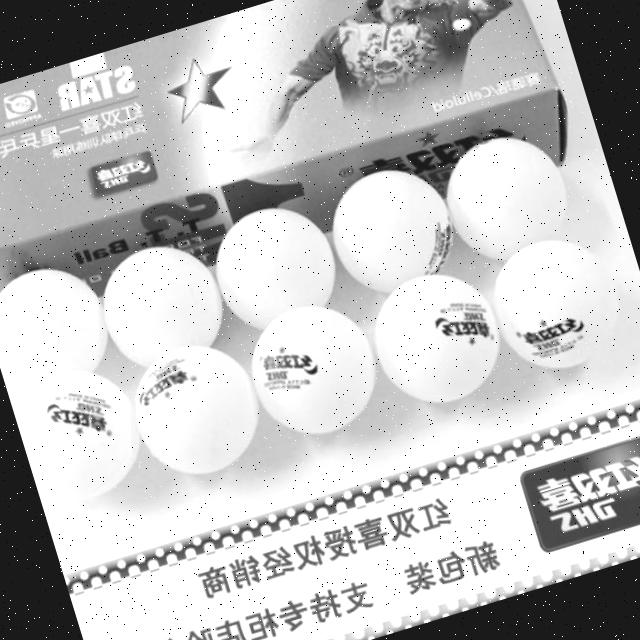ping-pong-ball: (118, 322, 282, 491), (235, 286, 389, 448), (358, 256, 514, 412), (478, 224, 630, 382), (430, 115, 582, 272), (318, 148, 468, 298), (88, 230, 235, 378), (200, 191, 346, 333), (10, 356, 146, 508), (0, 255, 117, 398)
